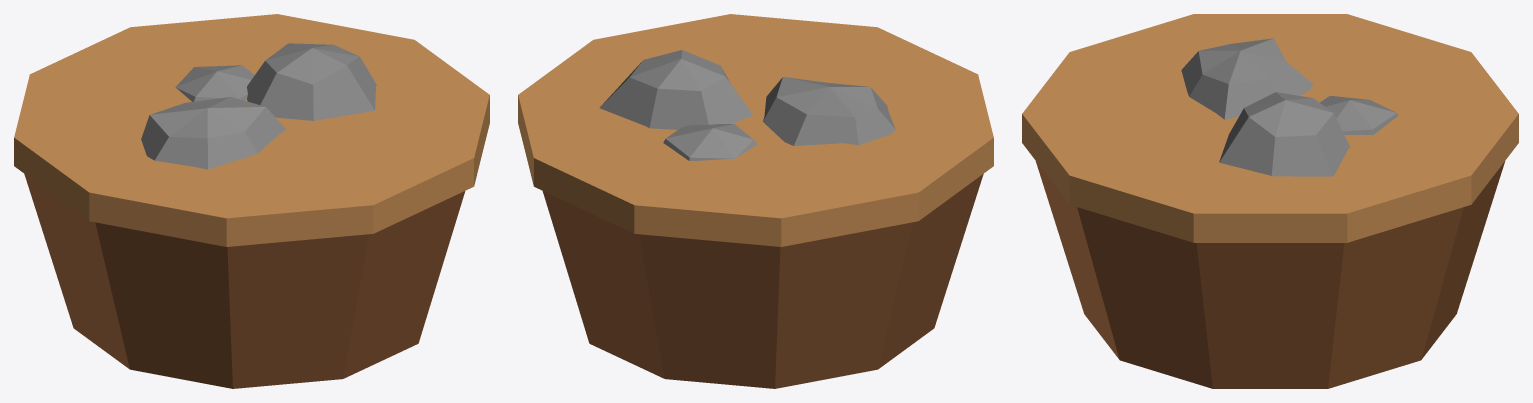
File: basket.glb
3 renders of one model, left to right at view 1: azimuth 30°, elevation 25°; view 2: azimuth 150°, elevation 25°; view 3: azimuth 270°, elevation 25°, orthographic. The views are drawn at different scales.
Visible parts, largest first — view 1: Basket; view 2: Basket; view 3: Basket.
Boxes of the visible parts, left/top/right/bottom form: Basket: left=14, top=14, right=489, bottom=388; Basket: left=518, top=14, right=993, bottom=388; Basket: left=1022, top=14, right=1518, bottom=388.
Size of the model in its own units: 19.02 by 11 by 20.
